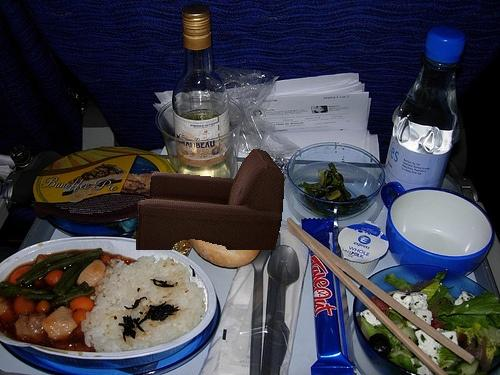tampered: (137, 150, 284, 250)
